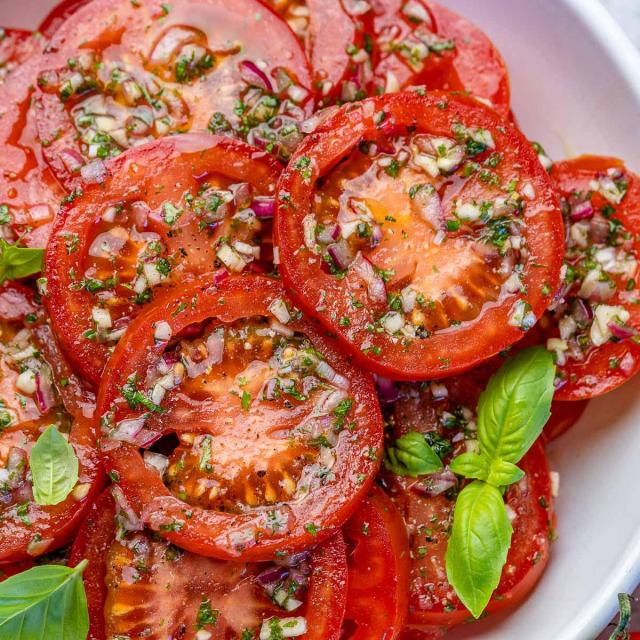Tomato: (278, 95, 558, 367), (89, 284, 370, 548), (38, 142, 292, 322)
